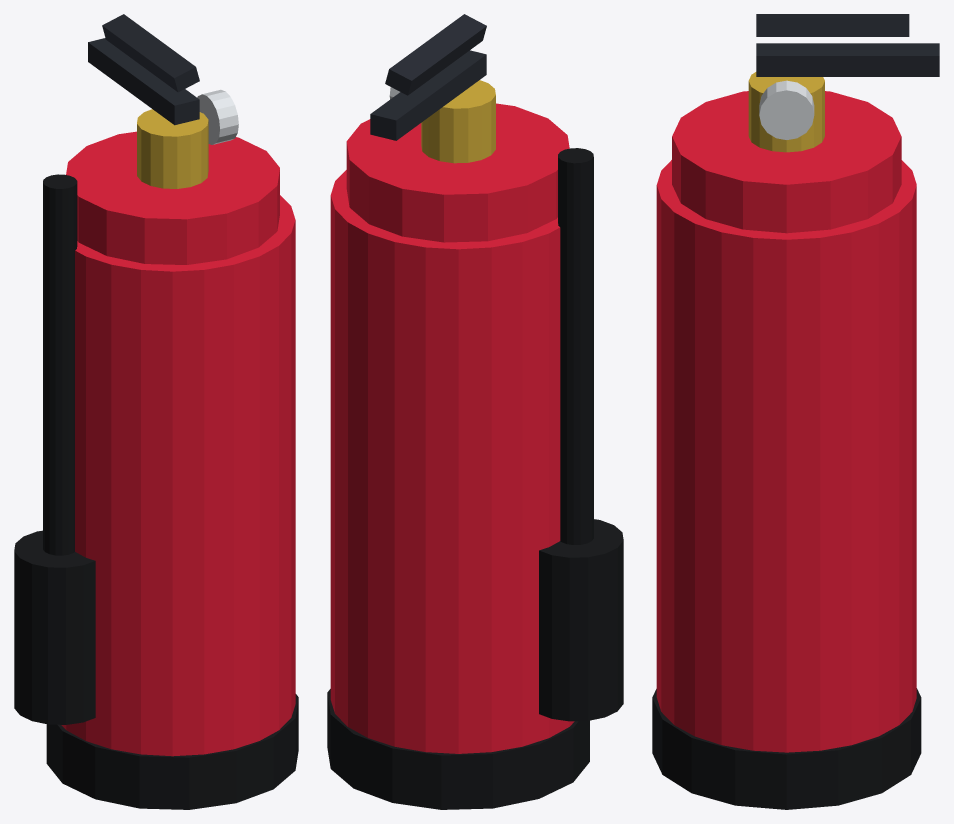
File: fire_extinguisher.glb
3 views of the same model, side by side, from view 1: azimuth 30°, elevation 25°; view 2: azimuth 150°, elevation 25°; view 3: azimuth 270°, elevation 25° (orthographic). The views are drawn at different scales.
Visible parts, largest first — view 1: Prop_FireExtinguisher; view 2: Prop_FireExtinguisher; view 3: Prop_FireExtinguisher.
Part boxes in pixels (x1=…): Prop_FireExtinguisher: x1=14, y1=14, x2=298, y2=809; Prop_FireExtinguisher: x1=327, y1=14, x2=623, y2=809; Prop_FireExtinguisher: x1=652, y1=14, x2=939, y2=809.
Bounding box in the file's own units: 0.21 × 0.5331 × 0.188.
